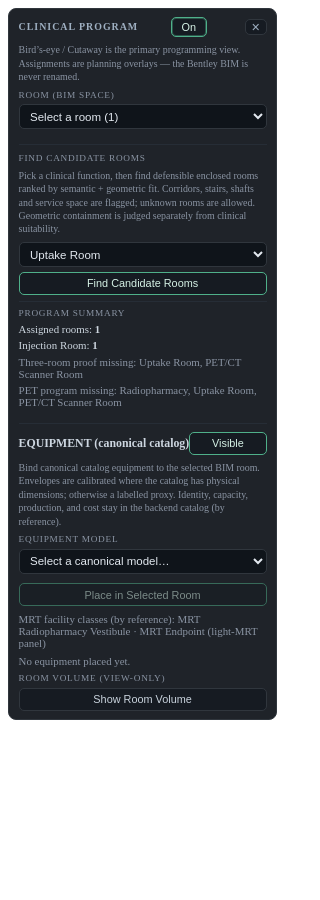
Test case: Build 1A.4 §29 — product containment validation UI (no Developer mode) › FAIL shows a product warning that identifies the room
The image size is (320, 900).
Select "Injection Room 01 — 1DC1 WAITING / ACTIVITY AREA" in the dropdown below "Room (BIM space)": (143, 117) [19,104,267,129]
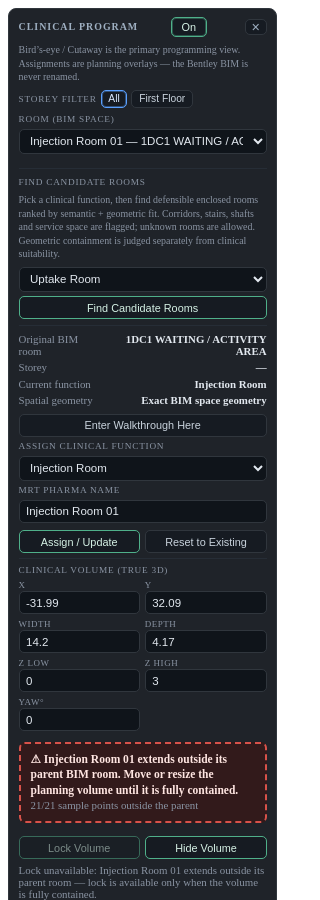
Expected: the message shows "Injection Room 01", [31,752,238,796]
